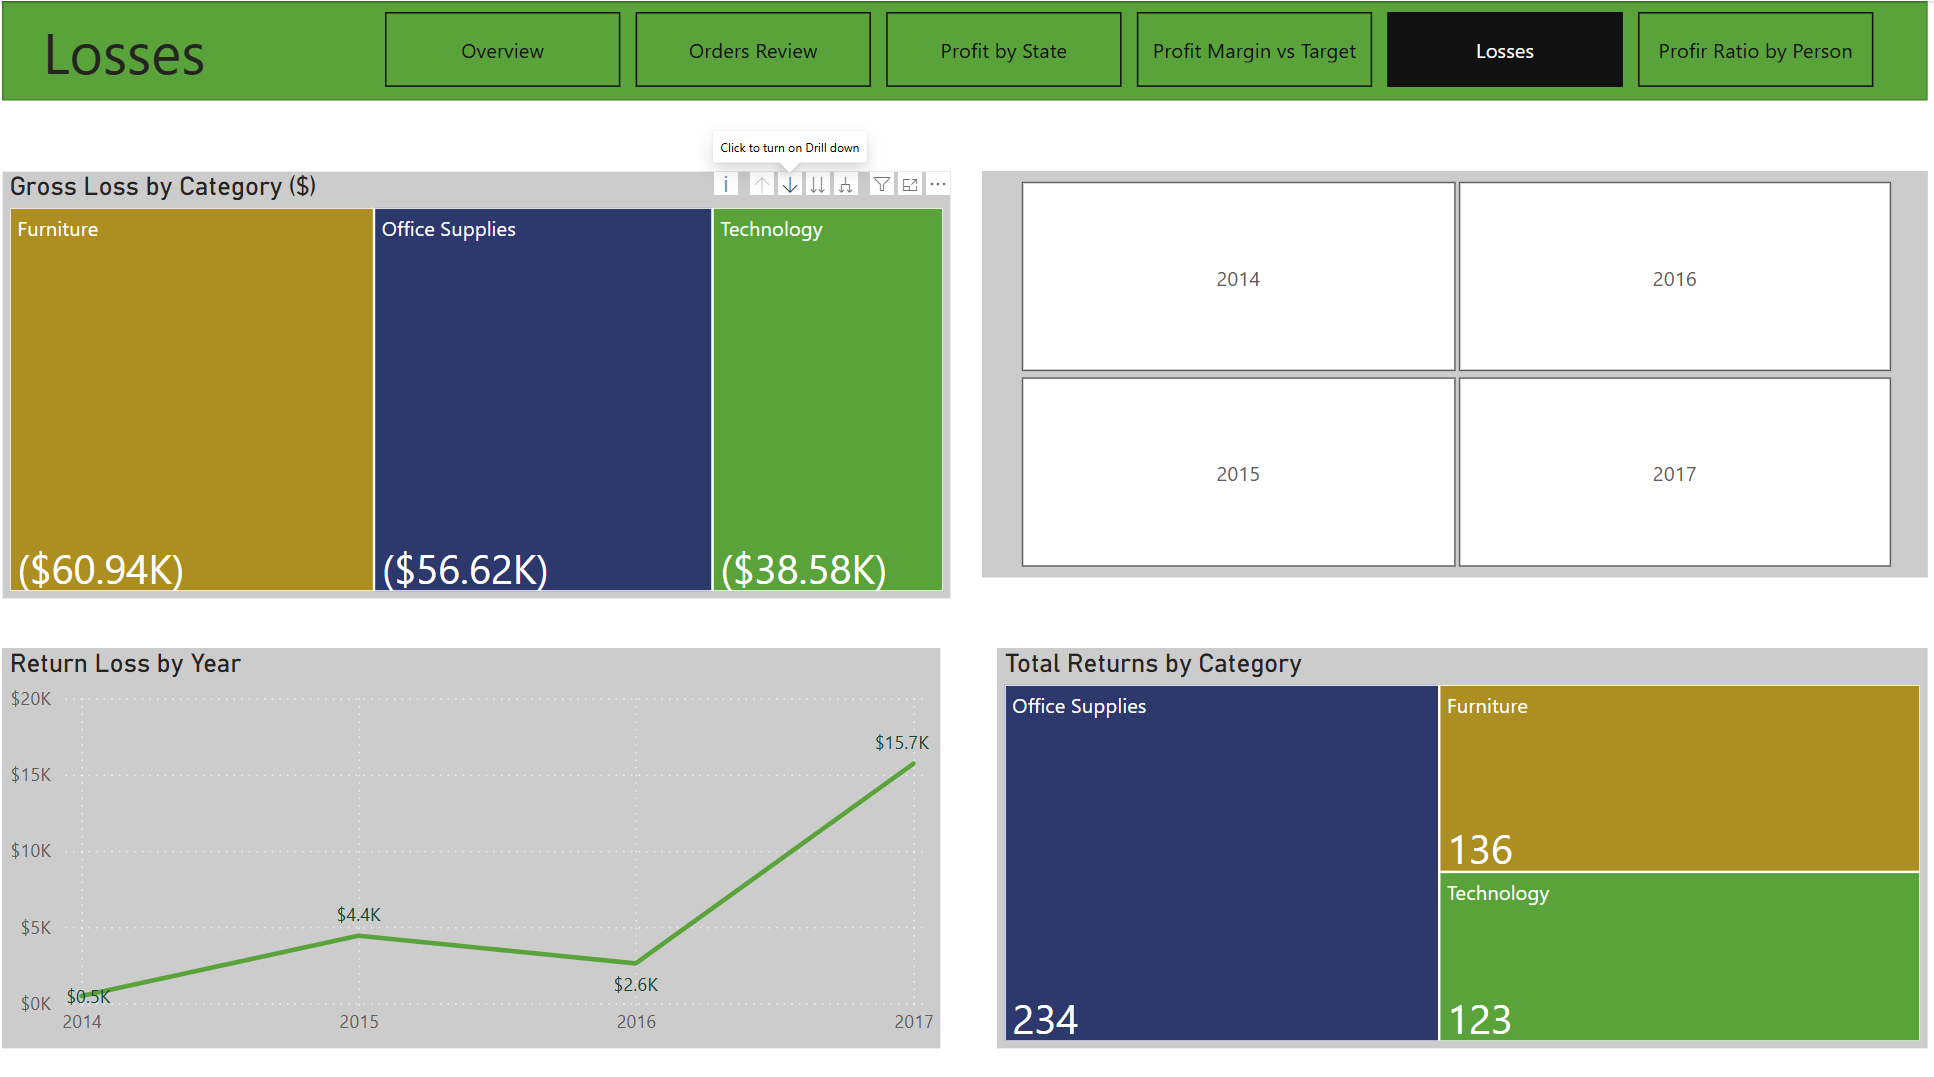

Layout of this report page (visuals, bound fields, positions):
{"tool":"powerbi","page":{"name":"Losses","canvas":[1280,720],"ordinal":4},"visuals":[{"type":"treemap","title":"Gross Loss by Category ($)","fields":{"Values":["Orders._Gross Loss"],"Group":["Products.Category","Products.Sub-Category","Products.Product Name"]},"box":[6.5,111.2,621,280.1],"z":0},{"type":"slicer","fields":{"Values":["Orders.Order Date.Variation.Date Hierarchy.Year"]},"box":[647.9,111.2,619.1,266.3],"z":1000},{"type":"treemap","title":"Total Returns by Category","fields":{"Values":["Returns._Total Returns"],"Group":["Products.Category","Products.Sub-Category","Products.Product Name"]},"box":[657.7,423.4,609.2,262.4],"z":2000},{"type":"lineChart","title":"Return Loss by Year","fields":{"Y":["Returns._Return Loss"],"Category":["Orders.Order Date.Variation.Date Hierarchy.Year"]},"box":[6.5,423.4,614.5,262.4],"z":3000},{"type":"shape","box":[6.5,0,1260.4,65.4],"z":4000},{"type":"textbox","box":[28.1,2.6,227.1,62.8],"z":5000},{"type":"pageNavigator","box":[257.4,7.2,976.4,49.8],"z":6000}]}

Visuals, with their boxes in screenshot pixels (x1, y1, x2, y2), scaled from the page's 1280x720 canvas onto the 1934x1077 screenshot:
"Gross Loss by Category ($)" treemap: 10/166/948/585
slicer - Orders.Order Date.Variation.Date Hierarchy.Year: 979/166/1914/565
"Total Returns by Category" treemap: 994/633/1914/1026
"Return Loss by Year" lineChart: 10/633/938/1026
shape: 10/0/1914/98
textbox: 42/4/386/98
pageNavigator: 389/11/1864/85
